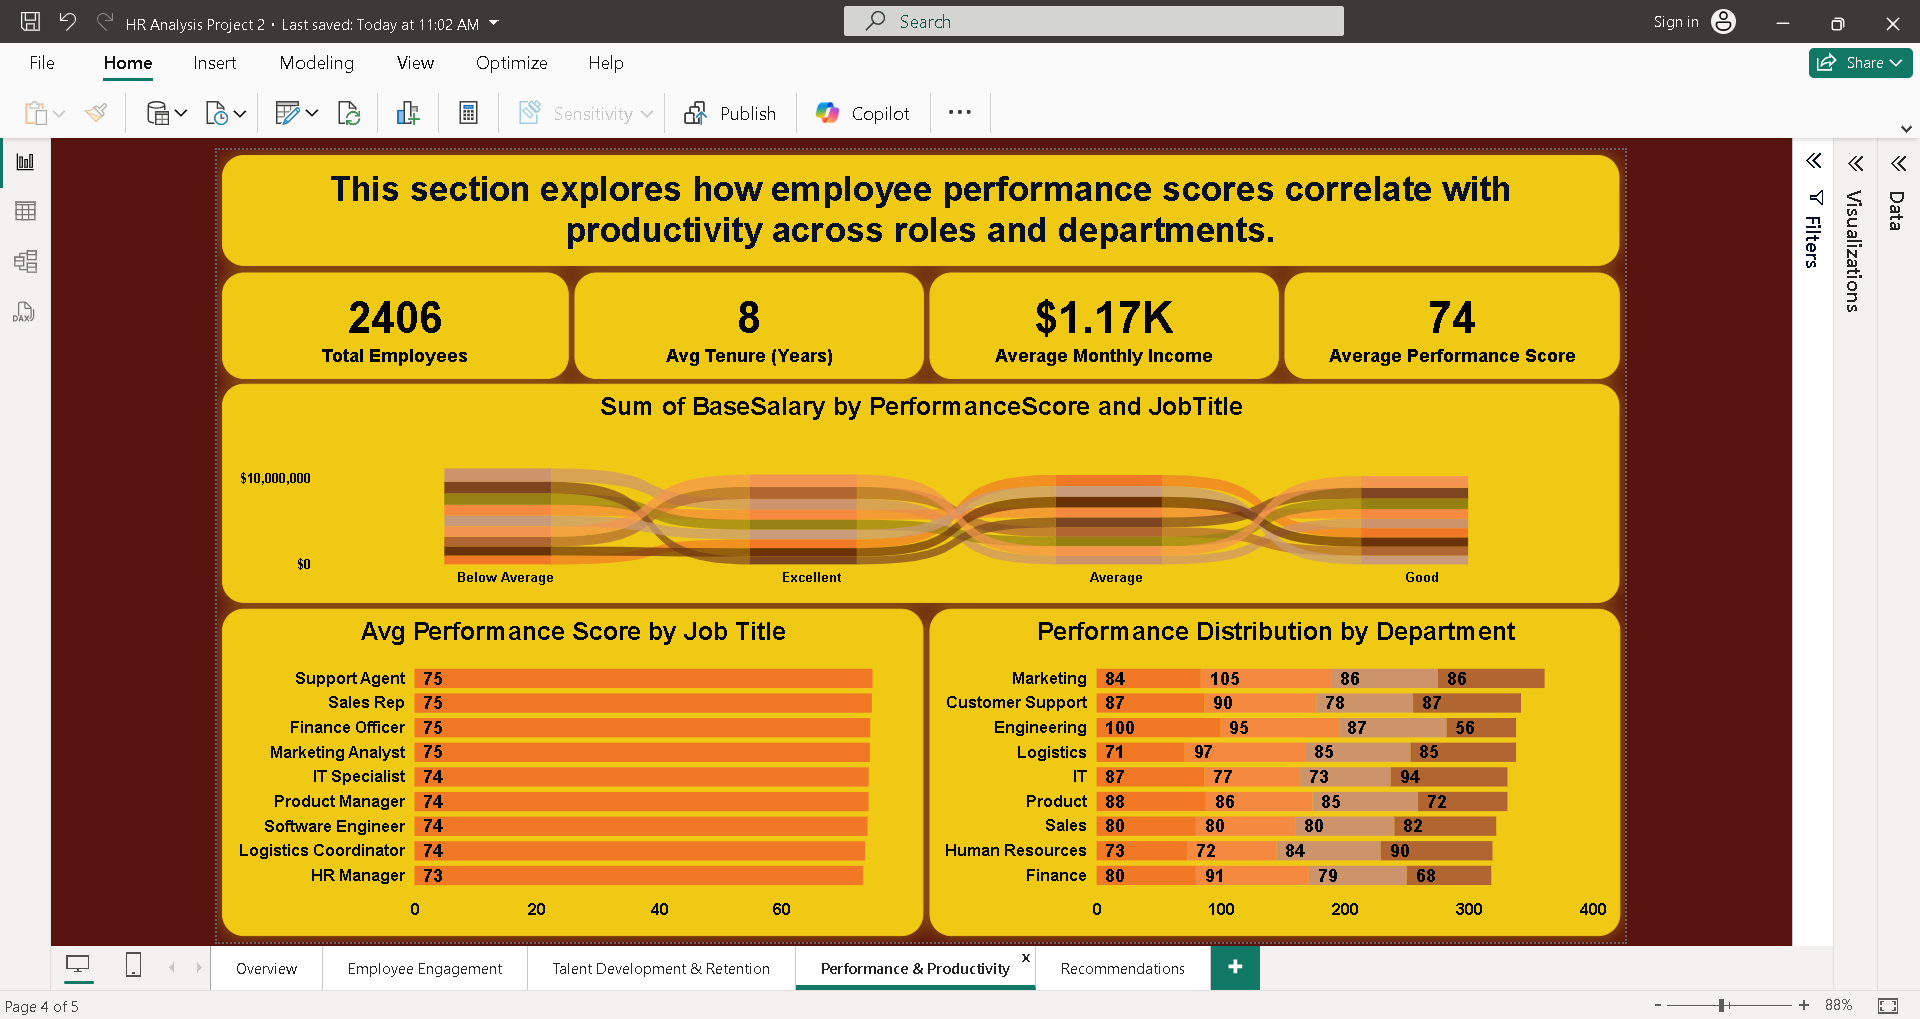

The page's visual inventory and layout, read from the dashboard file:
{"tool":"powerbi","page":{"name":"Performance & Productivity","canvas":[1280,720],"ordinal":3},"visuals":[{"type":"card","fields":{"Values":["HR_Metrics.Total Employees"]},"box":[5,110.8,315.1,97.1],"z":0},{"type":"textbox","box":[5,5,1270.3,100.9],"z":1000},{"type":"card","fields":{"Values":["HR_Metrics.Avg Tenure (Years)"]},"box":[325,110.8,317.6,97.1],"z":2000},{"type":"card","fields":{"Values":["HR_Metrics.Average Monthly Income"]},"box":[647.6,110.8,317.6,97.1],"z":3000},{"type":"card","fields":{"Values":["HR_Metrics.Average Performance Score"]},"box":[970.2,110.8,305.1,97.1],"z":4000},{"type":"ribbonChart","fields":{"Category":["Dim_Employee.PerformanceScore"],"Y":["Sum(Dim_Employee.BaseSalary)"],"Series":["Dim_Employee.JobTitle"]},"box":[5,213,1270.3,199.3],"z":5000},{"type":"barChart","title":"Avg Performance Score by Job Title","fields":{"Y":["HR_Metrics.Average Performance Score"],"Category":["Dim_Employee.JobTitle"]},"box":[5,417.2,637.6,297.6],"z":6000},{"type":"barChart","title":"Performance Distribution by Department","fields":{"Y":["CountNonNull(Dim_Employee.EmployeeID)"],"Category":["Dim_Employee.Department"],"Series":["Dim_Employee.PerformanceScore"]},"box":[647.6,417.2,627.7,297.6],"z":7000}]}

Visuals, with their boxes on the page's 1280x720 design canvas (x1, y1, x2, y2). These are canvas units, not pixel positions in the 1920x1019 screenshot, which may show the page scaled, cropped or inside an application window:
card - HR_Metrics.Total Employees: bbox(5, 111, 320, 208)
textbox: bbox(5, 5, 1275, 106)
card - HR_Metrics.Avg Tenure (Years): bbox(325, 111, 643, 208)
card - HR_Metrics.Average Monthly Income: bbox(648, 111, 965, 208)
card - HR_Metrics.Average Performance Score: bbox(970, 111, 1275, 208)
ribbonChart - Dim_Employee.PerformanceScore x Sum(Dim_Employee.BaseSalary): bbox(5, 213, 1275, 412)
"Avg Performance Score by Job Title" barChart: bbox(5, 417, 643, 715)
"Performance Distribution by Department" barChart: bbox(648, 417, 1275, 715)
